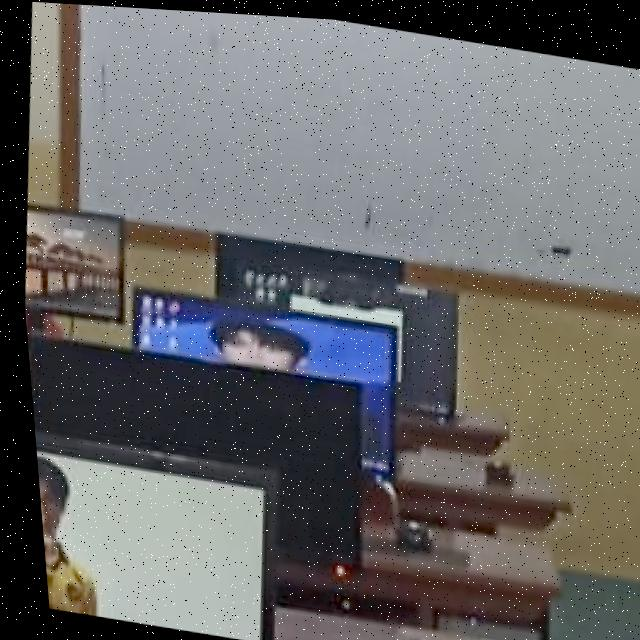offscreen: (27, 340, 351, 556)
onscreen: (127, 289, 388, 472), (28, 439, 256, 638), (216, 251, 448, 406), (19, 206, 119, 317)
